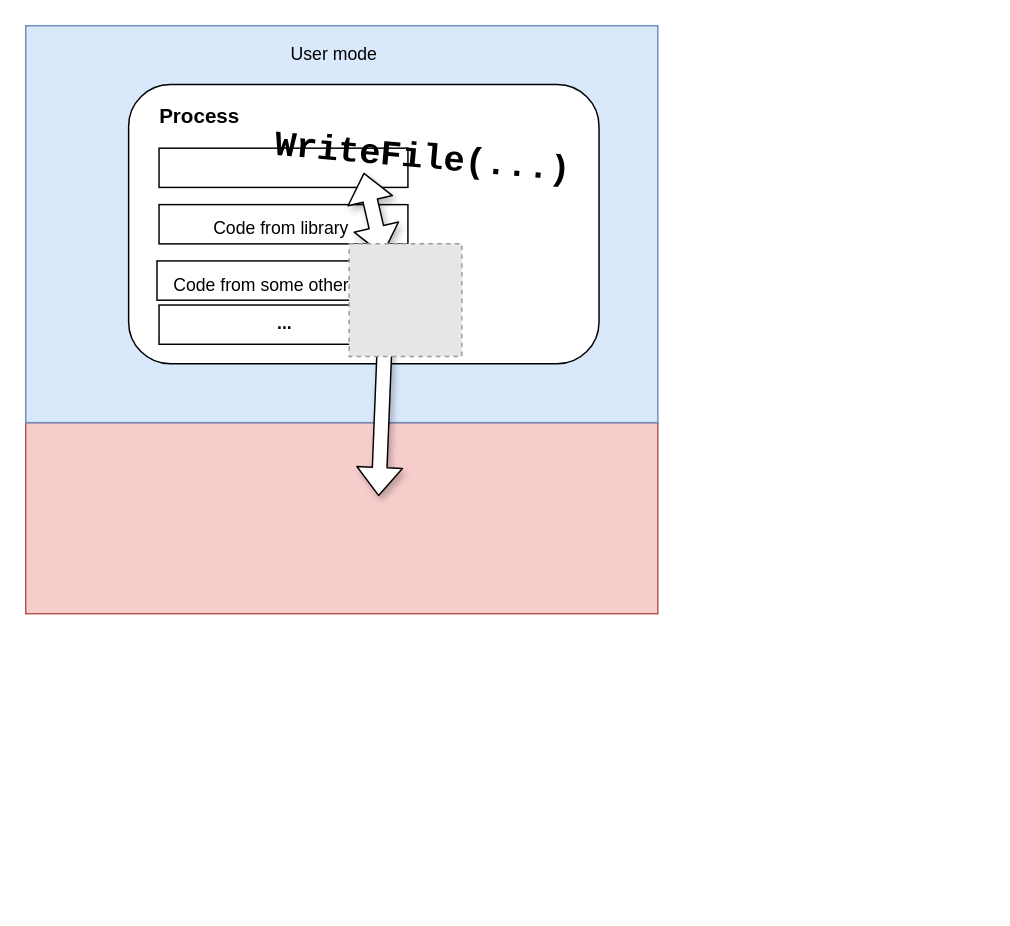
Some shapes in this 1010 by 926 pixel diagram are drawn without their labels. Grey dashed boxes stand in for pictures. Here are the shapes that lost their labels. From the top down, the centre of each, then its label:
(x=283, y=167): Code from executable
(x=341, y=517): Kernel mode
